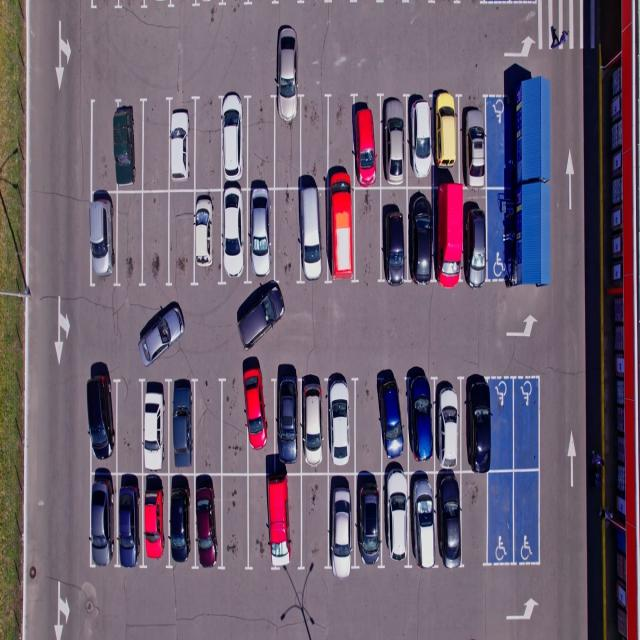space-empty: (298, 472, 332, 573), (140, 191, 172, 288), (193, 97, 225, 193), (169, 188, 199, 288), (141, 98, 172, 193), (272, 188, 303, 282), (115, 190, 145, 287), (352, 377, 382, 473), (194, 378, 224, 473), (115, 379, 145, 474), (246, 97, 277, 188), (220, 474, 249, 570), (352, 188, 382, 280), (220, 376, 248, 474), (273, 92, 302, 185), (514, 470, 543, 562), (486, 469, 514, 563), (462, 470, 490, 564), (90, 96, 118, 190), (328, 96, 356, 189), (299, 98, 327, 188), (515, 378, 542, 471), (248, 472, 273, 570), (490, 378, 514, 475)
space-occupied: (268, 470, 302, 572), (246, 372, 279, 473), (325, 374, 358, 470), (112, 96, 145, 192), (85, 374, 117, 471), (139, 380, 171, 476), (192, 476, 224, 572), (246, 188, 278, 282), (296, 187, 328, 281), (432, 184, 463, 281), (169, 377, 200, 473), (86, 191, 117, 287), (217, 188, 248, 284), (169, 97, 200, 192), (191, 189, 222, 284), (351, 471, 382, 565), (274, 376, 304, 473), (378, 376, 408, 472), (327, 474, 357, 570), (378, 473, 409, 565), (432, 375, 462, 469), (378, 187, 408, 280), (141, 475, 171, 568), (219, 96, 248, 191), (327, 186, 356, 280), (170, 471, 198, 568), (115, 472, 144, 564), (298, 377, 326, 472), (407, 376, 435, 471), (352, 95, 381, 186), (432, 470, 460, 564), (408, 186, 436, 280), (432, 95, 461, 185), (408, 94, 437, 184), (379, 96, 407, 188), (410, 470, 437, 563), (87, 475, 115, 563), (466, 378, 492, 472), (467, 188, 490, 285), (465, 96, 489, 186)
